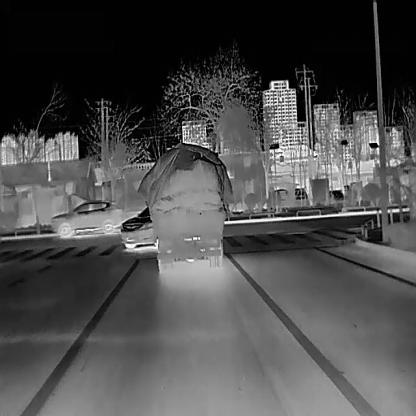car: (51, 198, 128, 236), (120, 205, 156, 248), (328, 188, 344, 202), (293, 187, 307, 201)
truck: (137, 141, 234, 273), (309, 178, 329, 206)
